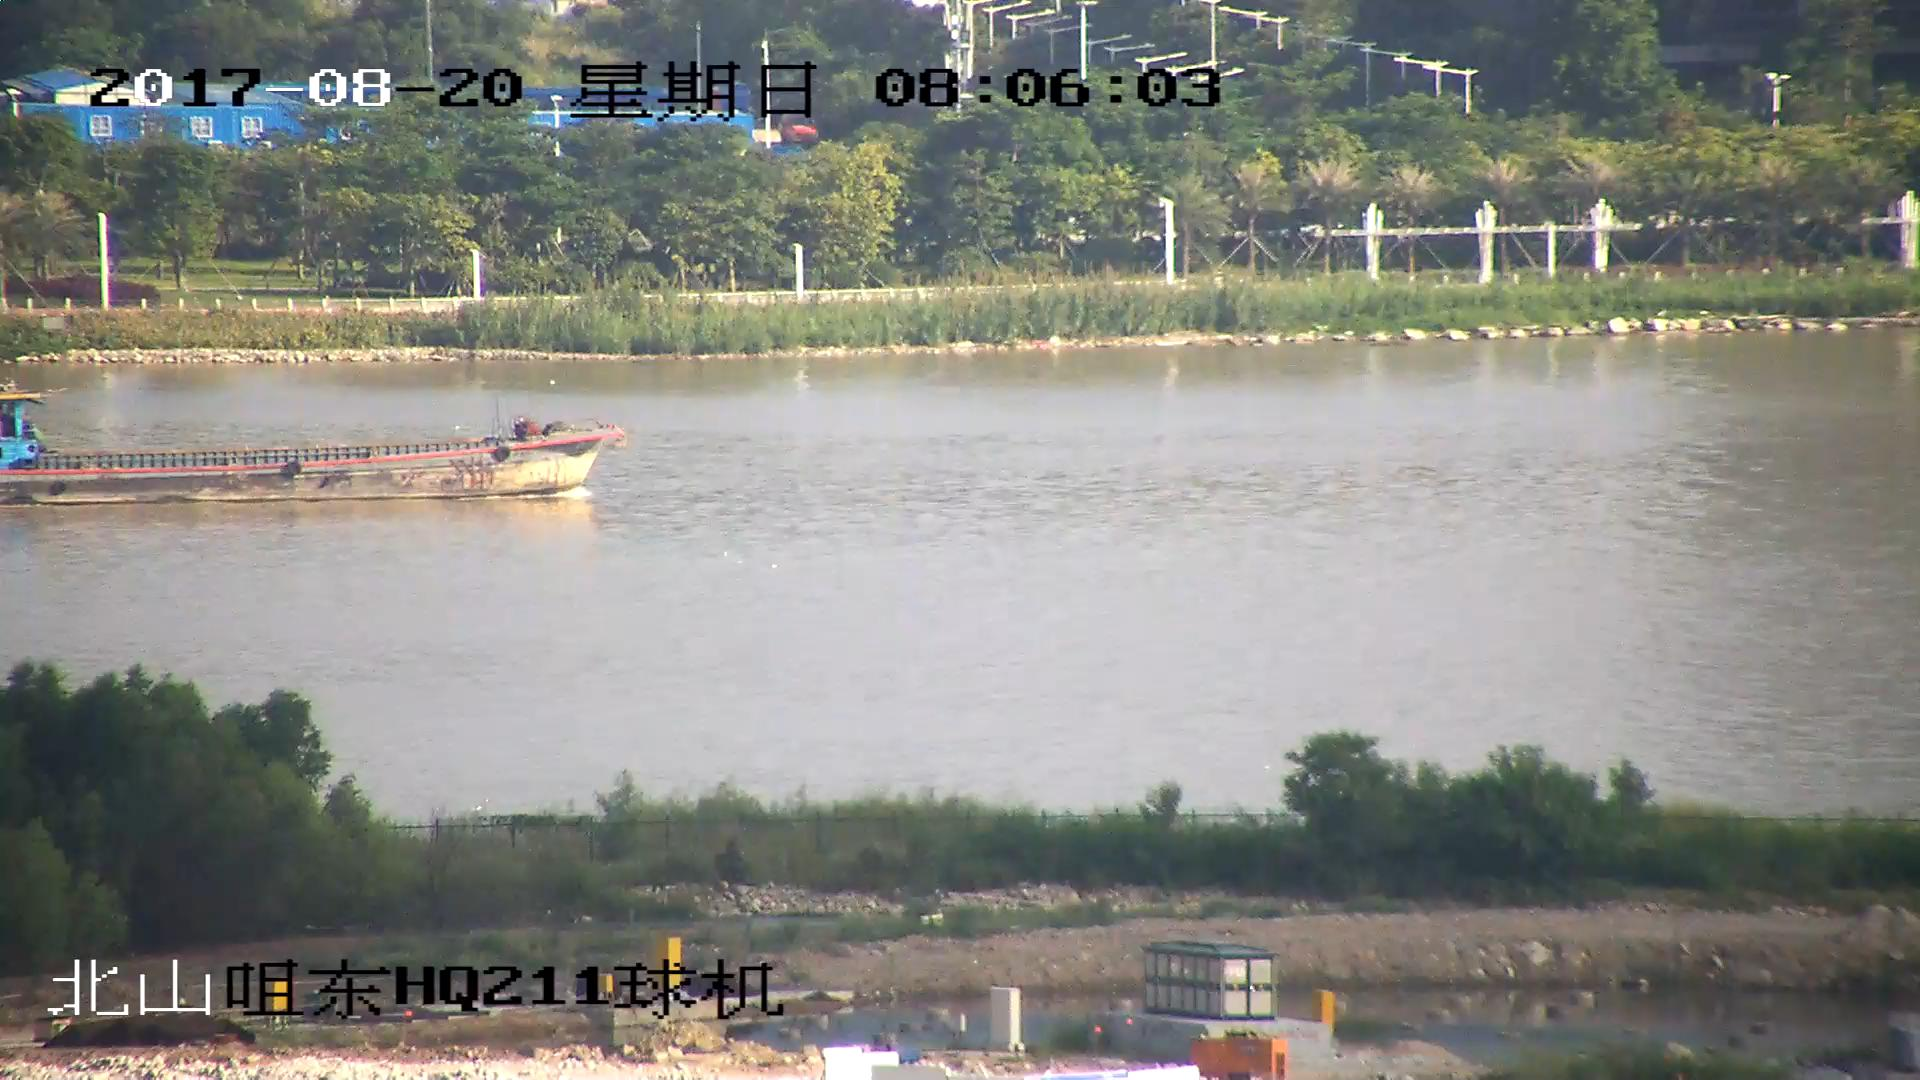fishing boat: (1, 392, 624, 505)
